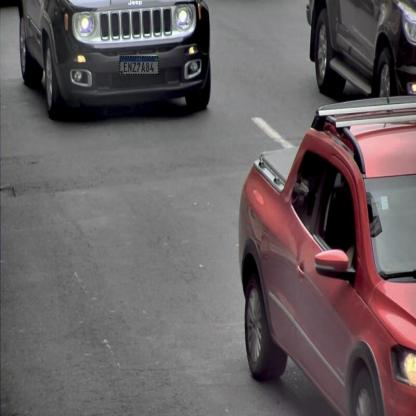PlacaM: (119, 56, 158, 75)
